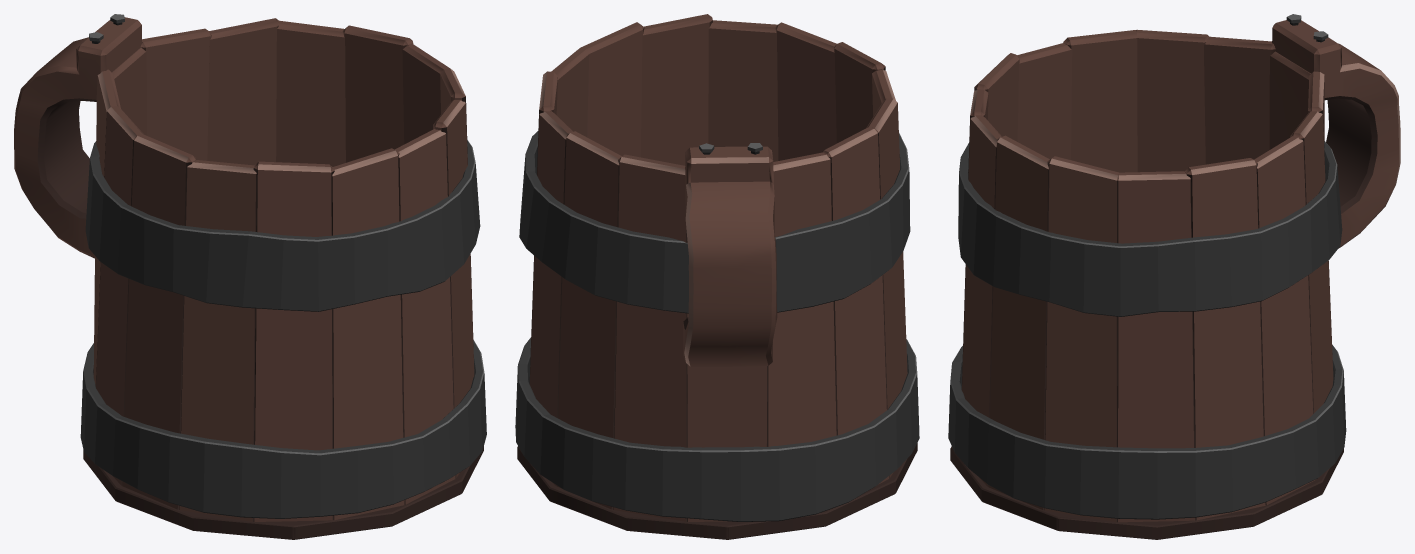
The model's file is UD_TIR_Tankard.glb.
3 renders of one model, left to right at view 1: azimuth 30°, elevation 25°; view 2: azimuth 150°, elevation 25°; view 3: azimuth 270°, elevation 25°, orthographic.
Visible parts, largest first — view 1: Tankard; view 2: Tankard; view 3: Tankard.
Boxes of the visible parts, <box> form: Tankard: <box>14,14,486,539</box>; Tankard: <box>515,14,919,539</box>; Tankard: <box>948,14,1400,539</box>.
Bounding box in the file's own units: 0.1691 × 0.1809 × 0.1921.
1 material, 1 textured.
